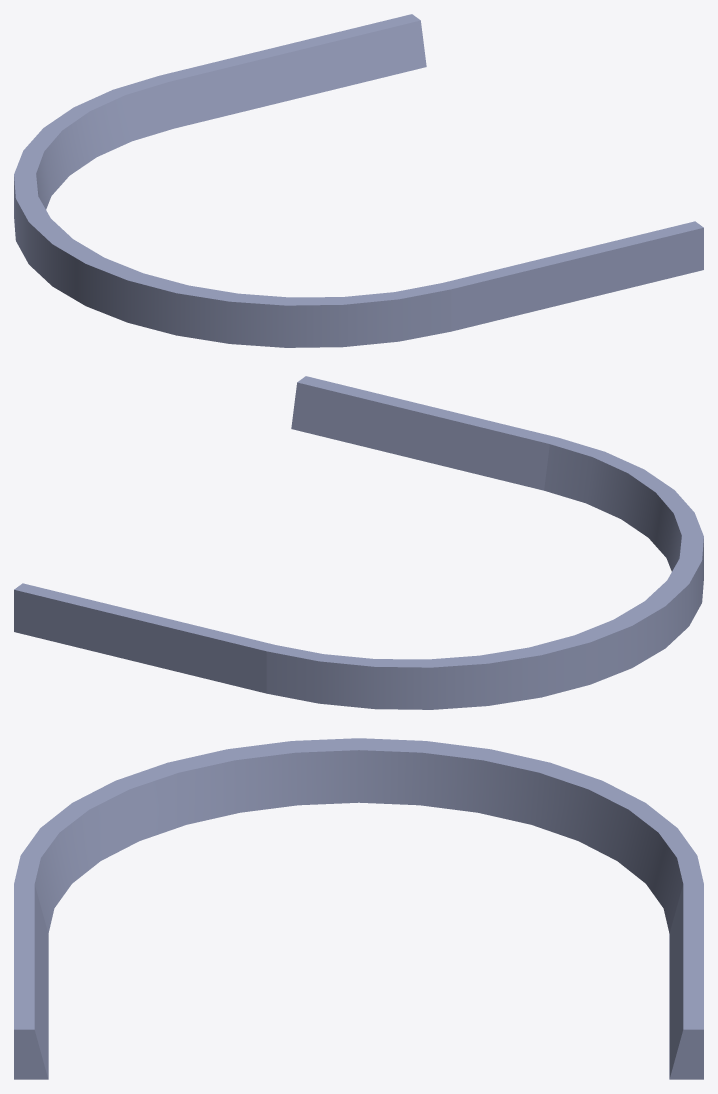
File: road-end-round-barrier.glb
3 views of the same model, one above another, from view 1: azimuth 30°, elevation 25°; view 2: azimuth 150°, elevation 25°; view 3: azimuth 270°, elevation 25° (orthographic). The views are drawn at different scales.
Parts seen in each view (by area): view 1: road-end-round-barrier; view 2: road-end-round-barrier; view 3: road-end-round-barrier.
Part boxes in pixels (left/top/right/bottom): road-end-round-barrier: left=14, top=14, right=703, bottom=347; road-end-round-barrier: left=14, top=376, right=703, bottom=709; road-end-round-barrier: left=14, top=738, right=703, bottom=1079.
Bounding box in the file's own units: 1 × 0.08 × 1.
Materials: 1 (1 with a texture image).
